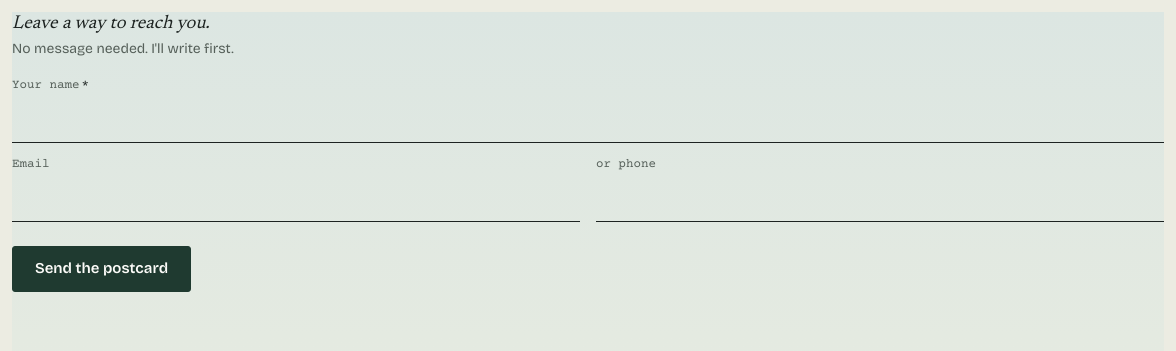
the lead form › puts the server's field errors on the fields
The image size is (1176, 351).
Step 1. Type "Jamie" into the field labelled "Your name*" → x=588, y=121, box [12, 99, 1164, 143]
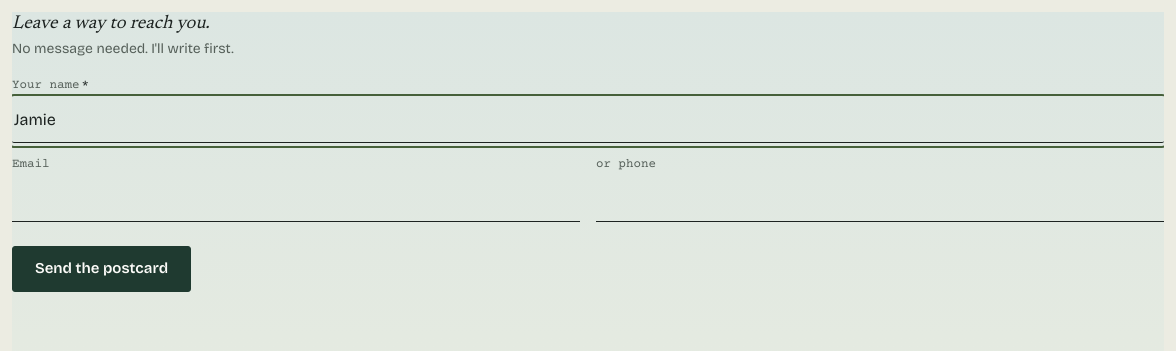
Step 2. Type "jamie@example.com" into the field labelled "Email" → x=296, y=200, box [12, 178, 580, 222]
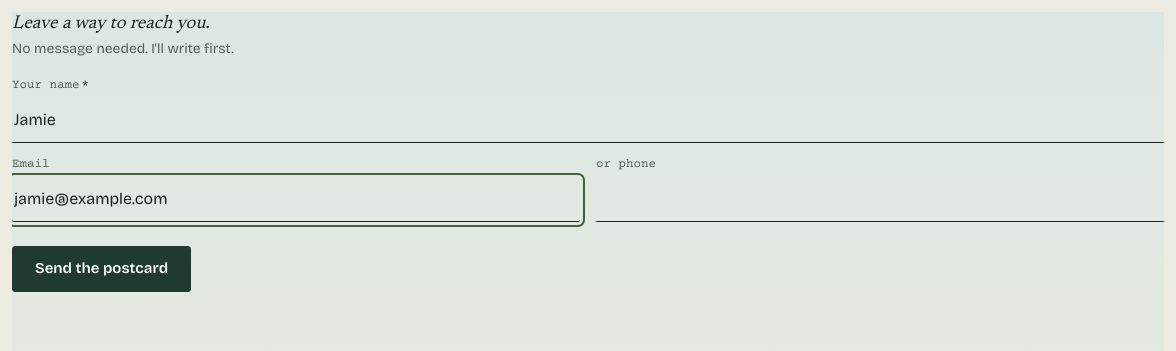
Step 3. Click the button "Send the postcard" → x=102, y=269, box [12, 246, 191, 292]
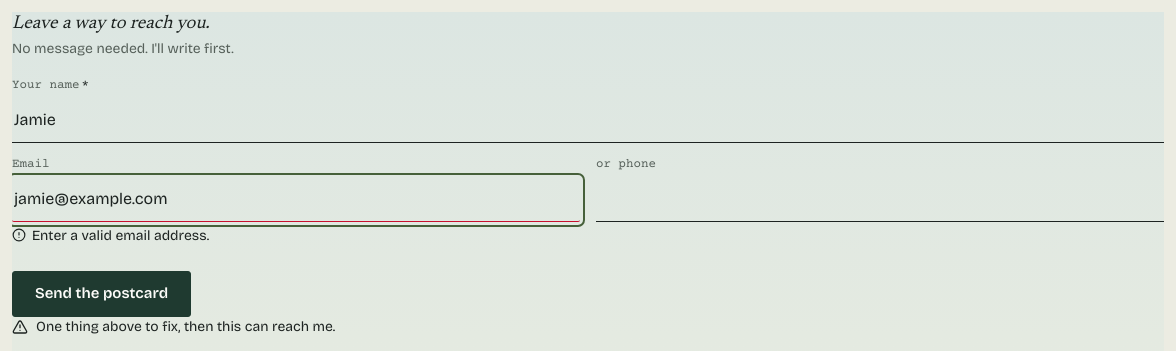
Expected: the text "Enter a valid email address." is shown, [32, 226, 209, 246]
